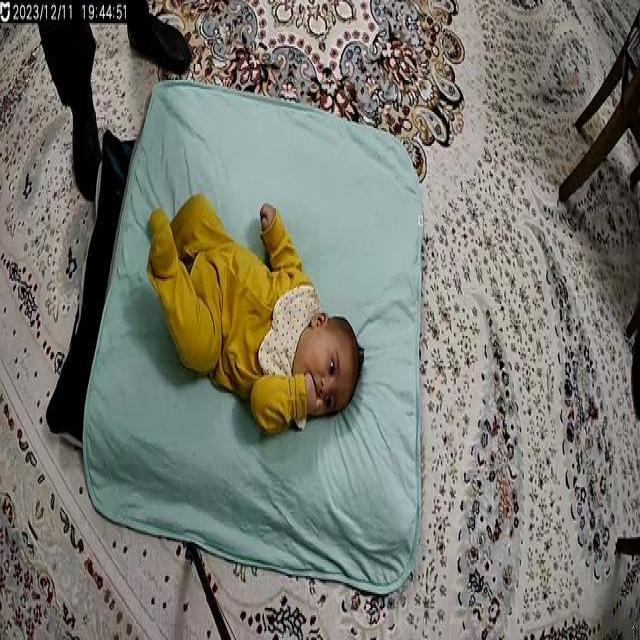baby: (146, 188, 366, 434)
